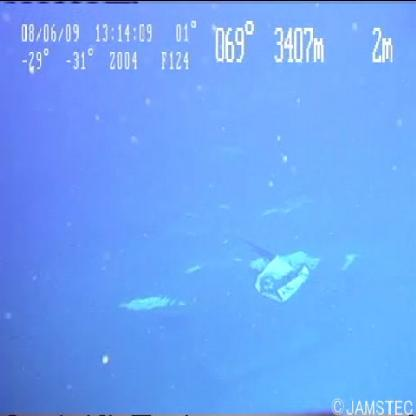Rác: (227, 222, 352, 321)
